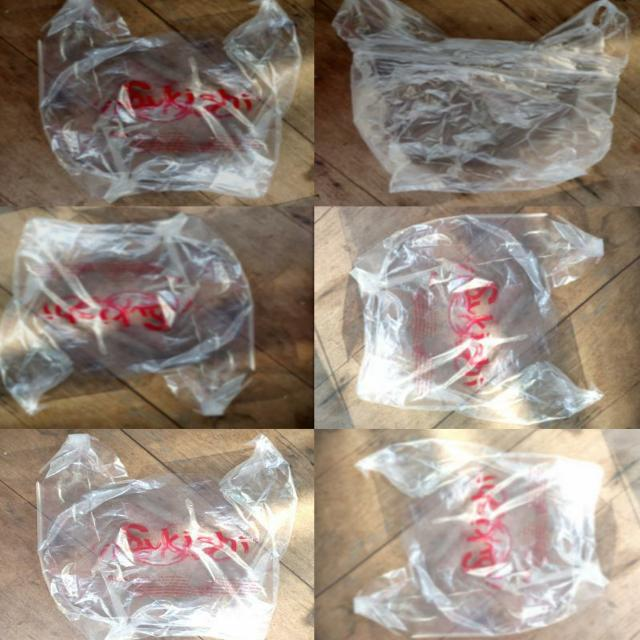plastik: (334, 0, 630, 192), (351, 213, 604, 425), (37, 434, 297, 640), (38, 0, 301, 202), (0, 214, 255, 415), (354, 439, 608, 637)
